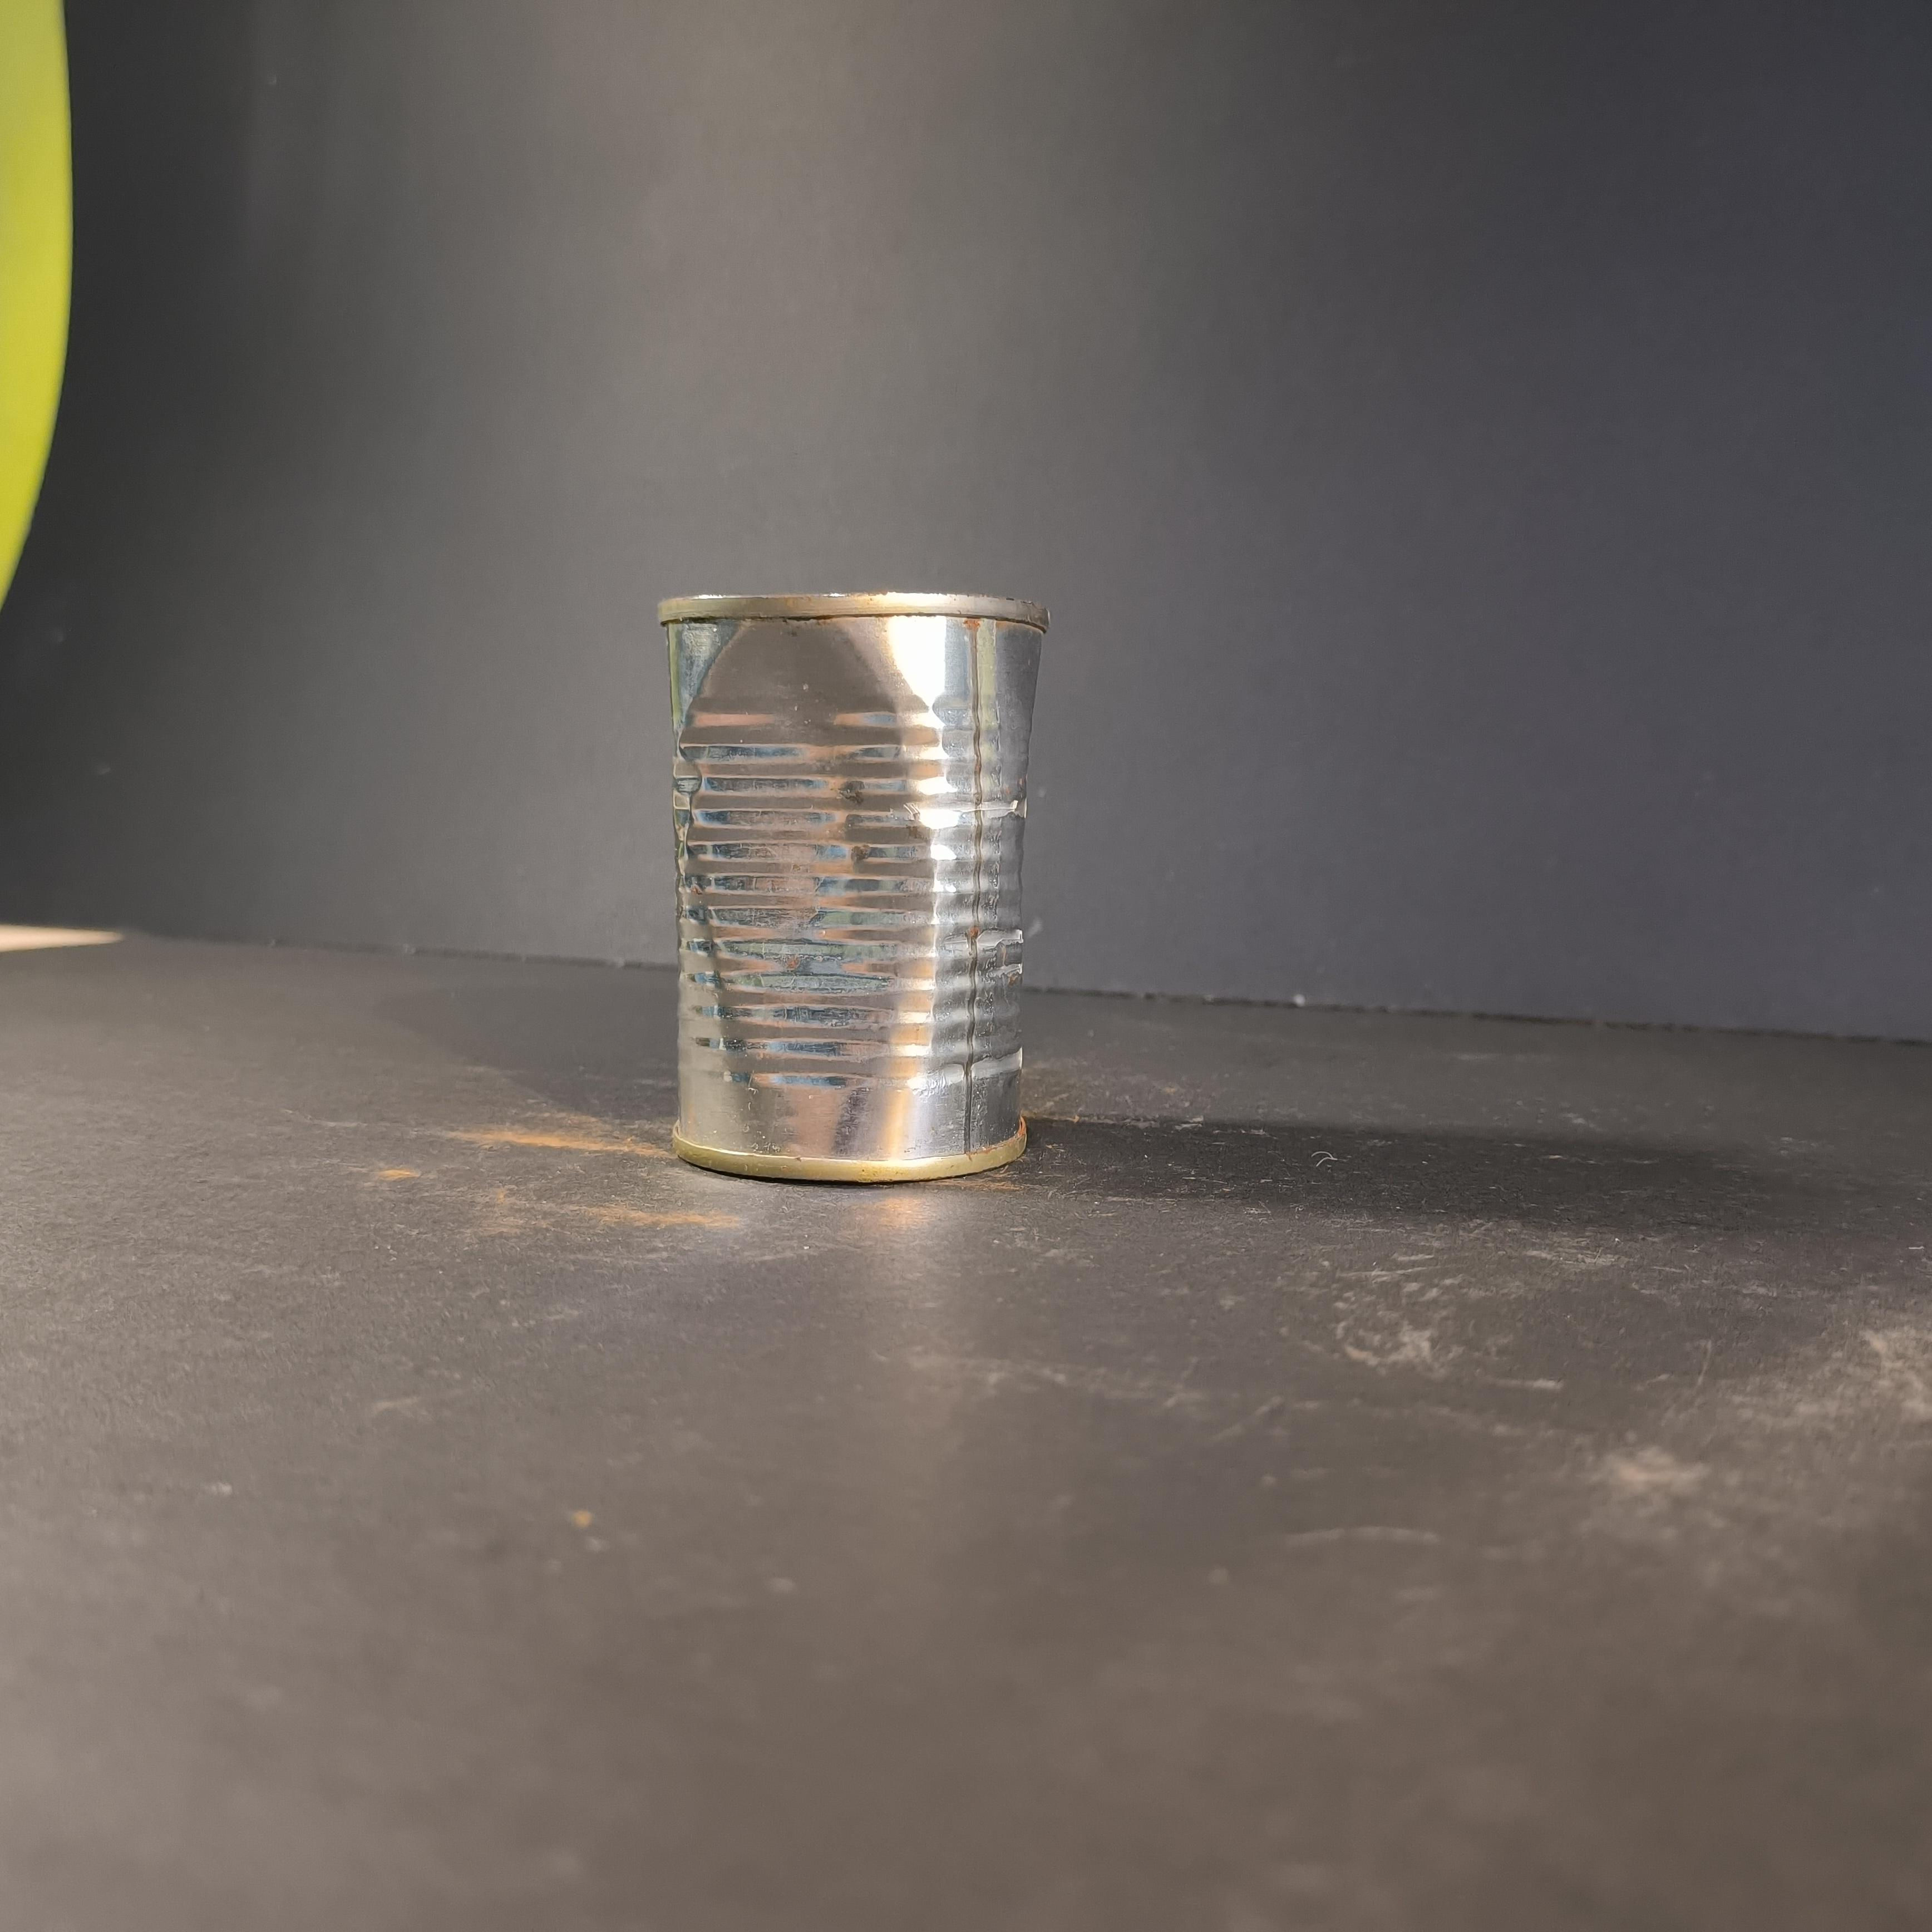Dented: (646, 564, 1058, 1185)
